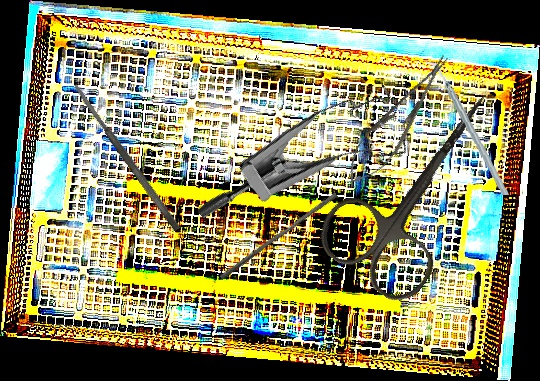Chopper: (423, 54, 510, 201)
Iris Scissors: (308, 62, 535, 311)
Needle Holder: (334, 45, 462, 197)
Pusher: (219, 188, 339, 285)
Spatula Surgical: (71, 81, 182, 233)
Speculum: (194, 52, 429, 287)
